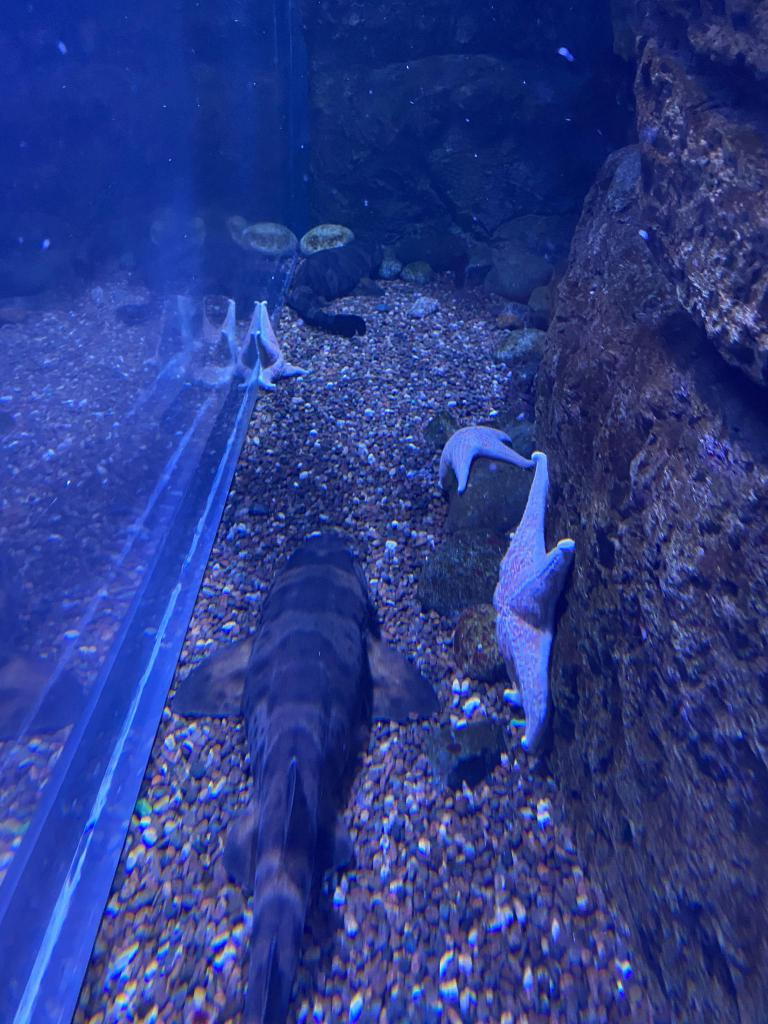Fish: (166, 534, 447, 1024)
Starfish: (493, 447, 577, 757), (250, 298, 316, 390), (439, 427, 530, 490)
